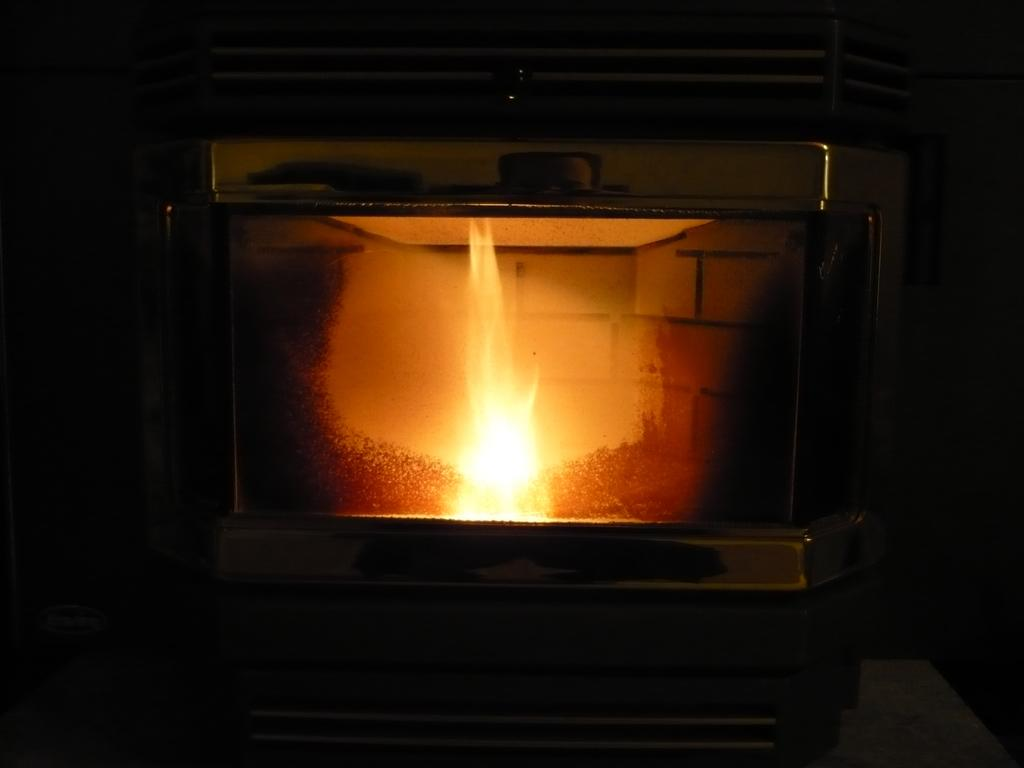Fire: (436, 228, 588, 523)
